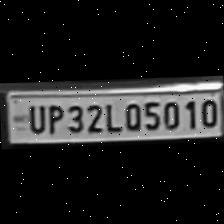0: (158, 97, 180, 130), (196, 95, 218, 128)
1: (178, 97, 198, 130)
2: (82, 100, 104, 133)
3: (62, 101, 82, 134)
5: (140, 96, 160, 130)
L: (100, 100, 120, 132)
P: (42, 102, 64, 134)
Q: (120, 99, 142, 130)
U: (22, 102, 44, 134)
